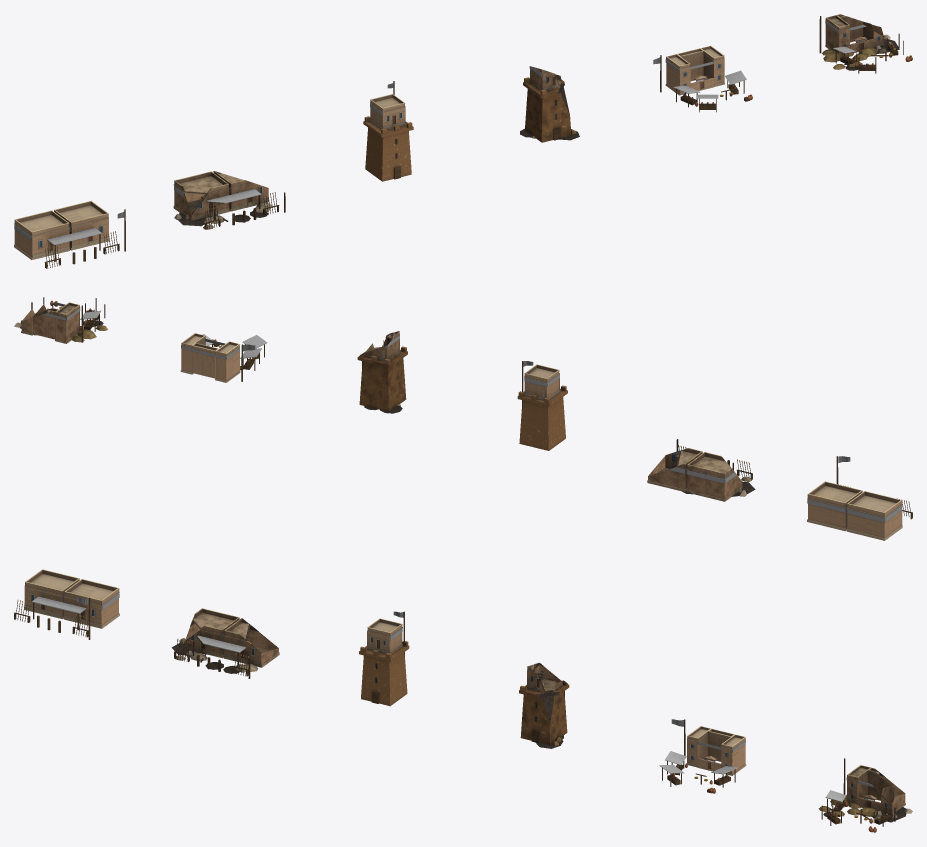
File: rts-bronze-levant.glb
3 views of the same model, one above another, from view 1: azimuth 30°, elevation 25°; view 2: azimuth 150°, elevation 25°; view 3: azimuth 330°, elevation 25° (orthographic).
Visible parts, largest first — view 1: LOD0, LOD0.001, LOD0.002, LOD0.004, LOD0.005, LOD0.003; view 2: LOD0, LOD0.001, LOD0.002, LOD0.003, LOD0.004, LOD0.005; view 3: LOD0, LOD0.001, LOD0.002, LOD0.005, LOD0.004, LOD0.003.
Boxes of the visible parts, left/top/right/bottom form: LOD0: left=14, top=200, right=125, bottom=268; LOD0.001: left=173, top=171, right=285, bottom=229; LOD0.002: left=363, top=81, right=413, bottom=181; LOD0.004: left=653, top=45, right=752, bottom=112; LOD0.005: left=819, top=14, right=912, bottom=73; LOD0.003: left=520, top=66, right=579, bottom=142; LOD0: left=807, top=456, right=912, bottom=540; LOD0.001: left=647, top=439, right=755, bottom=501; LOD0.002: left=517, top=361, right=567, bottom=450; LOD0.003: left=357, top=331, right=407, bottom=413; LOD0.004: left=180, top=333, right=267, bottom=382; LOD0.005: left=14, top=297, right=107, bottom=343; LOD0: left=14, top=569, right=119, bottom=639; LOD0.001: left=171, top=608, right=279, bottom=678; LOD0.002: left=359, top=611, right=409, bottom=706; LOD0.005: left=818, top=758, right=912, bottom=832; LOD0.004: left=659, top=719, right=746, bottom=793; LOD0.003: left=519, top=662, right=569, bottom=748.
Size of what is drawn, in the model's own units: 16.4 by 1.48 by 1.36.
2 materials, 2 textured.
